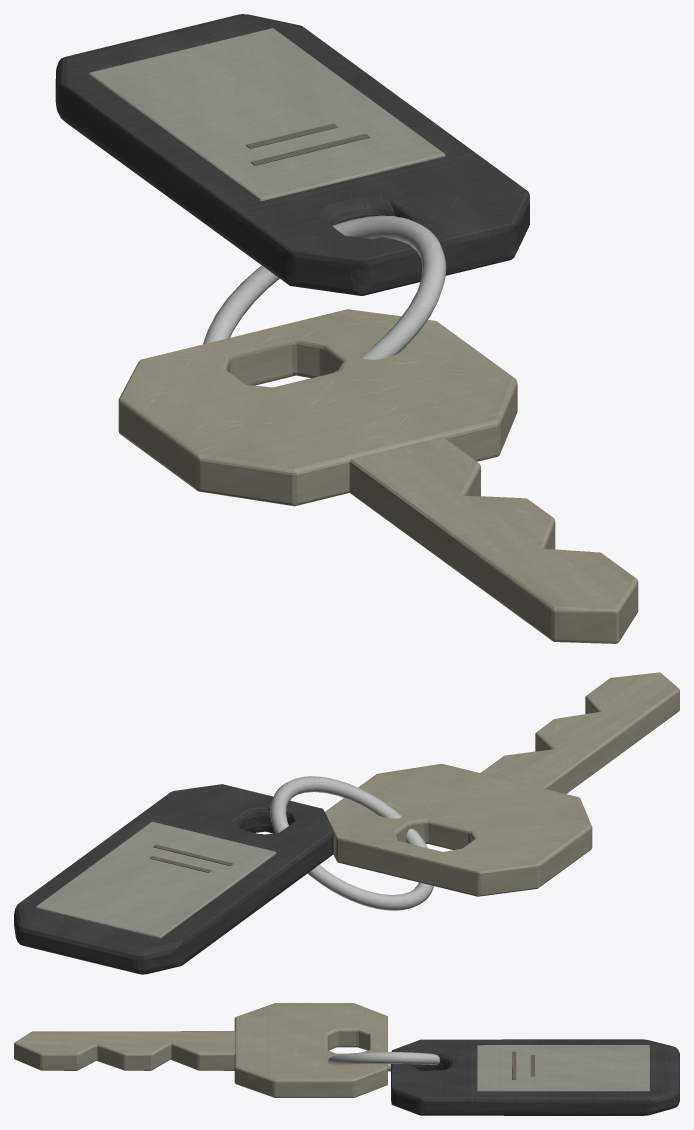
Rendered from Pickup_Key.fbx.
3 views of the same model, one above another, from view 1: azimuth 30°, elevation 25°; view 2: azimuth 150°, elevation 25°; view 3: azimuth 270°, elevation 25° (orthographic). The views are drawn at different scales.
Parts seen in each view (by area): view 1: Pickup_Key; view 2: Pickup_Key; view 3: Pickup_Key.
Part boxes in pixels (x1,y1,x2,y2): Pickup_Key: (55,14,638,643); Pickup_Key: (14,672,679,974); Pickup_Key: (14,1003,679,1115).
Size of the model in its own units: 3.09 by 0.7958 by 7.4.
